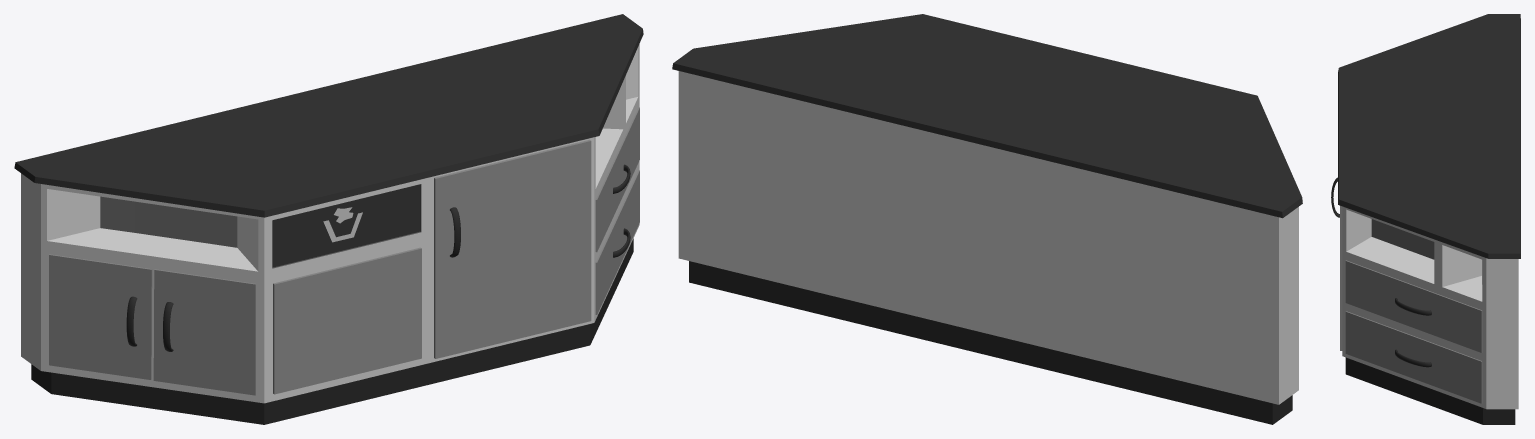
The model's file is Half Hexagonal Food Counter w_Garbage Grey.fbx.
3 renders of one model, left to right at view 1: azimuth 30°, elevation 25°; view 2: azimuth 150°, elevation 25°; view 3: azimuth 270°, elevation 25°, orthographic. The views are drawn at different scales.
Visible parts, largest first — view 1: Half Hexagonal Food Counter w_Garbage Grey; view 2: Half Hexagonal Food Counter w_Garbage Grey; view 3: Half Hexagonal Food Counter w_Garbage Grey.
Boxes of the visible parts, <box> form: Half Hexagonal Food Counter w_Garbage Grey: <box>14,14,643,424</box>; Half Hexagonal Food Counter w_Garbage Grey: <box>672,14,1302,424</box>; Half Hexagonal Food Counter w_Garbage Grey: <box>1331,14,1520,424</box>.
Bounding box in the file's own units: 287 × 98.39 × 95.84.
Materials: 1 (1 with a texture image).
